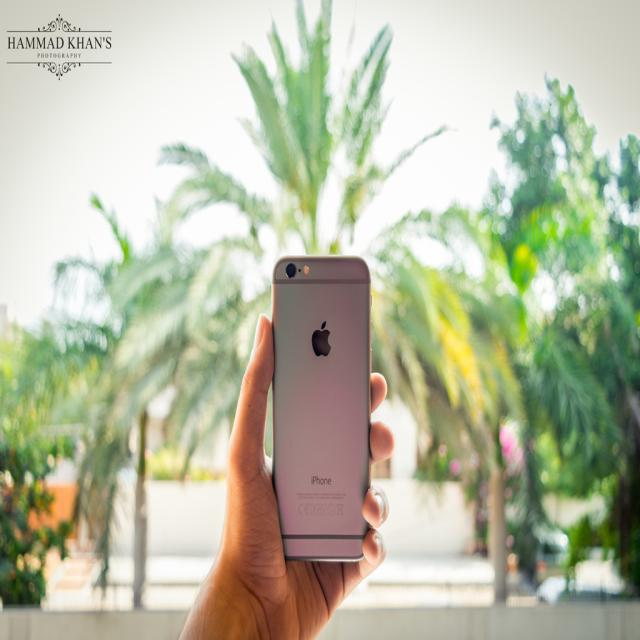Mobile-phone: (272, 255, 372, 563)
